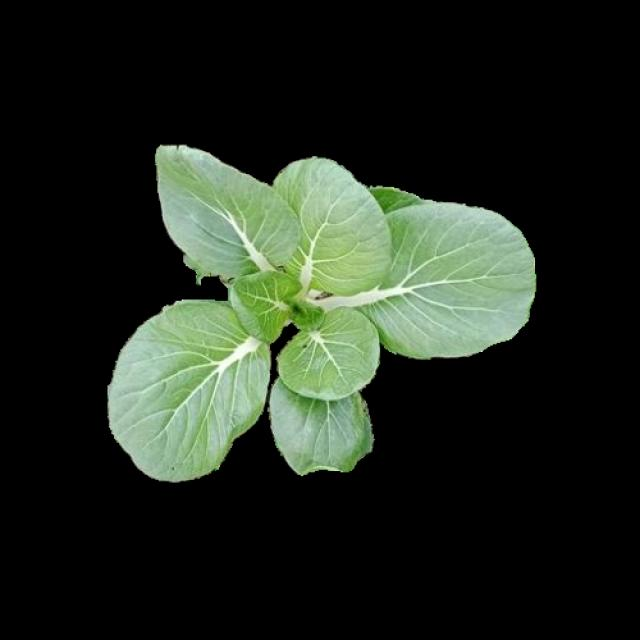healthy: (106, 141, 536, 479)
not-mature: (110, 144, 539, 482)
